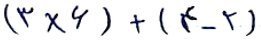character: (180, 5, 200, 36), (3, 3, 20, 35), (43, 13, 67, 33), (70, 5, 89, 30), (243, 9, 256, 38), (17, 6, 34, 28), (222, 9, 237, 32), (129, 14, 146, 34), (100, 6, 111, 36), (158, 7, 169, 36), (201, 25, 218, 36)
